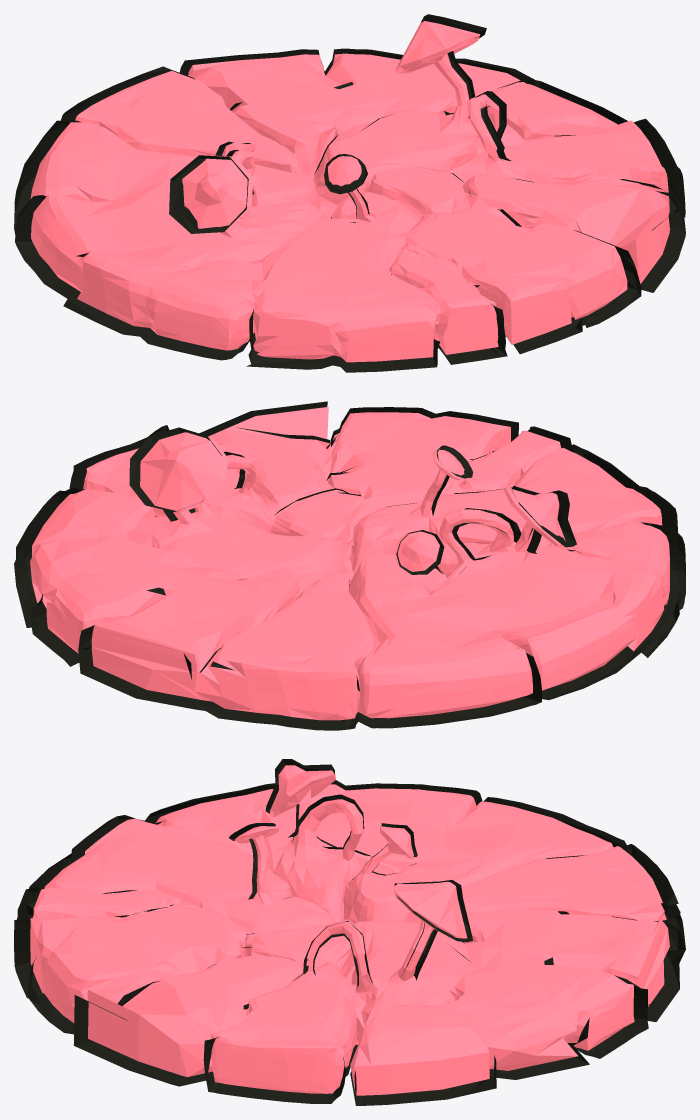
File: df_v2_content_plot_marker_a.glb
3 views of the same model, one above another, from view 1: azimuth 30°, elevation 25°; view 2: azimuth 150°, elevation 25°; view 3: azimuth 270°, elevation 25° (orthographic).
Parts seen in each view (by area): view 1: content_plot_marker_mesh_01, content_plot_marker_mesh_01_ink_outline; view 2: content_plot_marker_mesh_01, content_plot_marker_mesh_01_ink_outline; view 3: content_plot_marker_mesh_01, content_plot_marker_mesh_01_ink_outline.
Boxes of the visible parts, box(x1,y1,x2,y2) form: content_plot_marker_mesh_01: box(30, 21, 669, 362); content_plot_marker_mesh_01_ink_outline: box(14, 14, 685, 372); content_plot_marker_mesh_01: box(30, 407, 669, 720); content_plot_marker_mesh_01_ink_outline: box(14, 401, 685, 730); content_plot_marker_mesh_01: box(30, 765, 669, 1095); content_plot_marker_mesh_01_ink_outline: box(14, 759, 685, 1105).
Bounding box in the file's own units: 2.31 × 0.5639 × 2.31.
